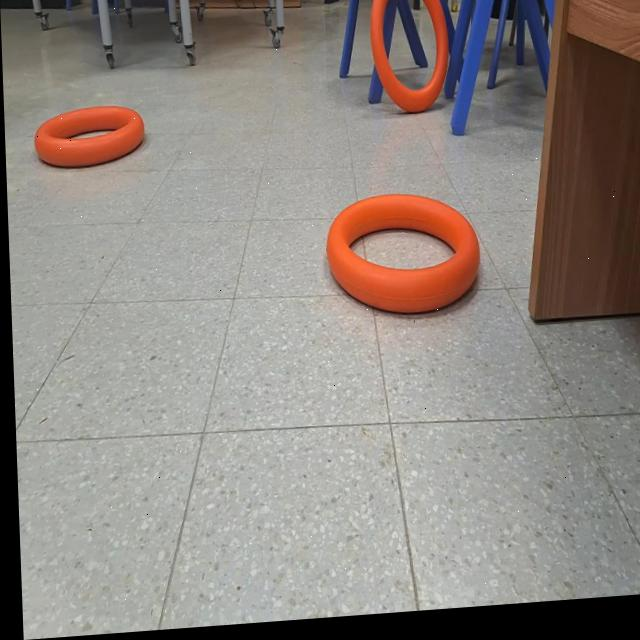note: (322, 192, 481, 325), (364, 0, 450, 124), (32, 105, 144, 172)
